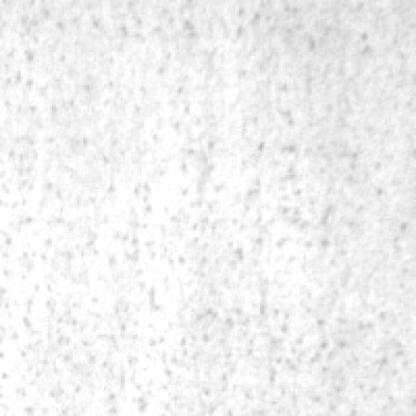pitted_surface: (0, 0, 412, 414)
